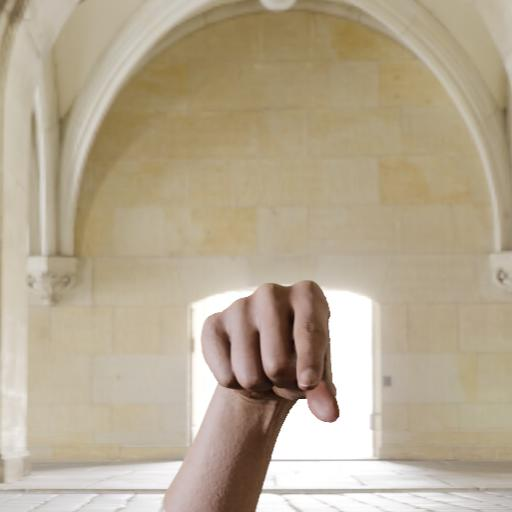Q: (161, 267, 357, 512)
